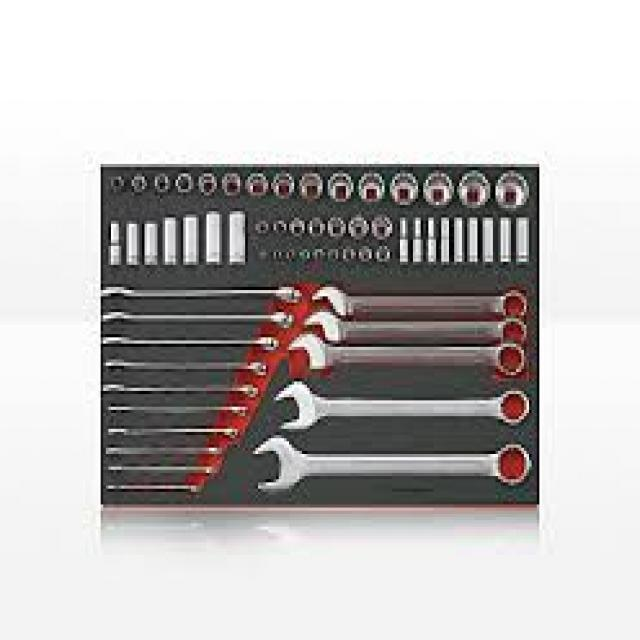wrench: (251, 433, 536, 502), (272, 377, 534, 435), (286, 328, 526, 384)
